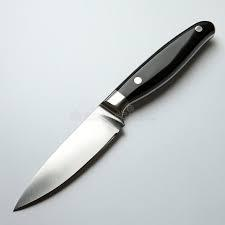Knife: (12, 19, 215, 211)
